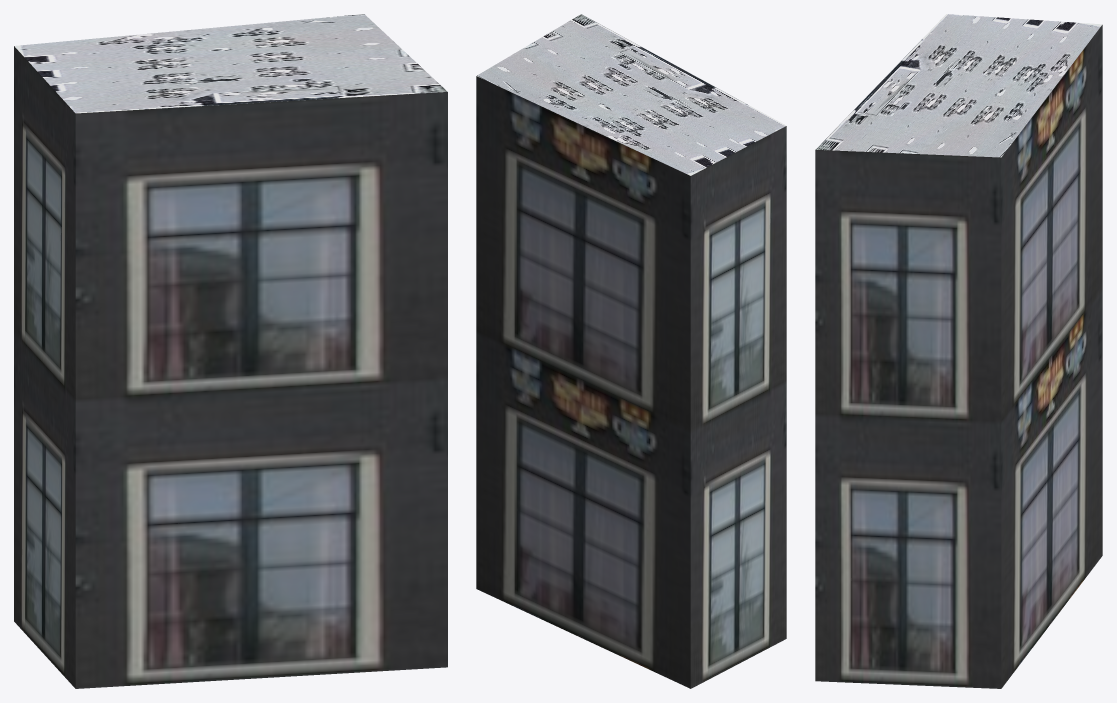
Rendered from ResTex__2421.fbx.
3 renders of one model, left to right at view 1: azimuth 30°, elevation 25°; view 2: azimuth 150°, elevation 25°; view 3: azimuth 270°, elevation 25°, orthographic. The views are drawn at different scales.
Visible parts, largest first — view 1: CityEngineMaterial_22_m, CityEngineMaterial_2_m; view 2: CityEngineMaterial_22_m, CityEngineMaterial_2_m; view 3: CityEngineMaterial_22_m, CityEngineMaterial_2_m.
Part boxes in pixels (bbox=[...]): CityEngineMaterial_22_m: bbox=[14, 46, 447, 688]; CityEngineMaterial_2_m: bbox=[14, 14, 447, 113]; CityEngineMaterial_22_m: bbox=[476, 76, 786, 688]; CityEngineMaterial_2_m: bbox=[477, 14, 786, 175]; CityEngineMaterial_22_m: bbox=[815, 25, 1102, 688]; CityEngineMaterial_2_m: bbox=[816, 14, 1102, 157].
Bounding box in the file's own units: 3.48 × 6 × 2.94.
2 materials, 2 textured.
